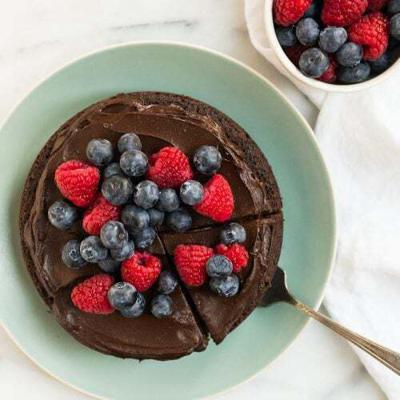cake: (18, 87, 285, 365)
